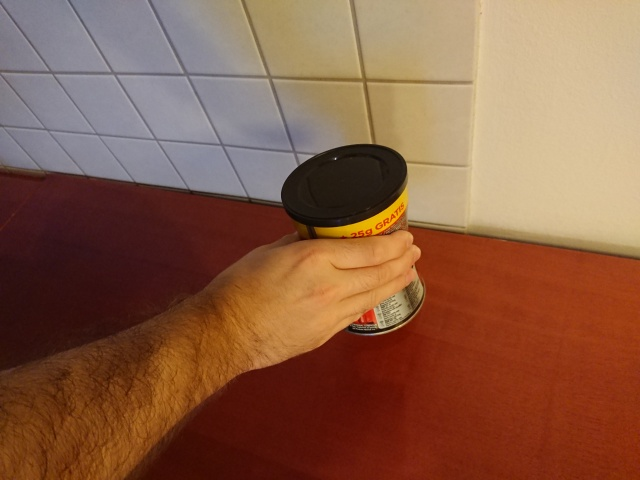Nescafe Classic 225g: (276, 139, 431, 340)
